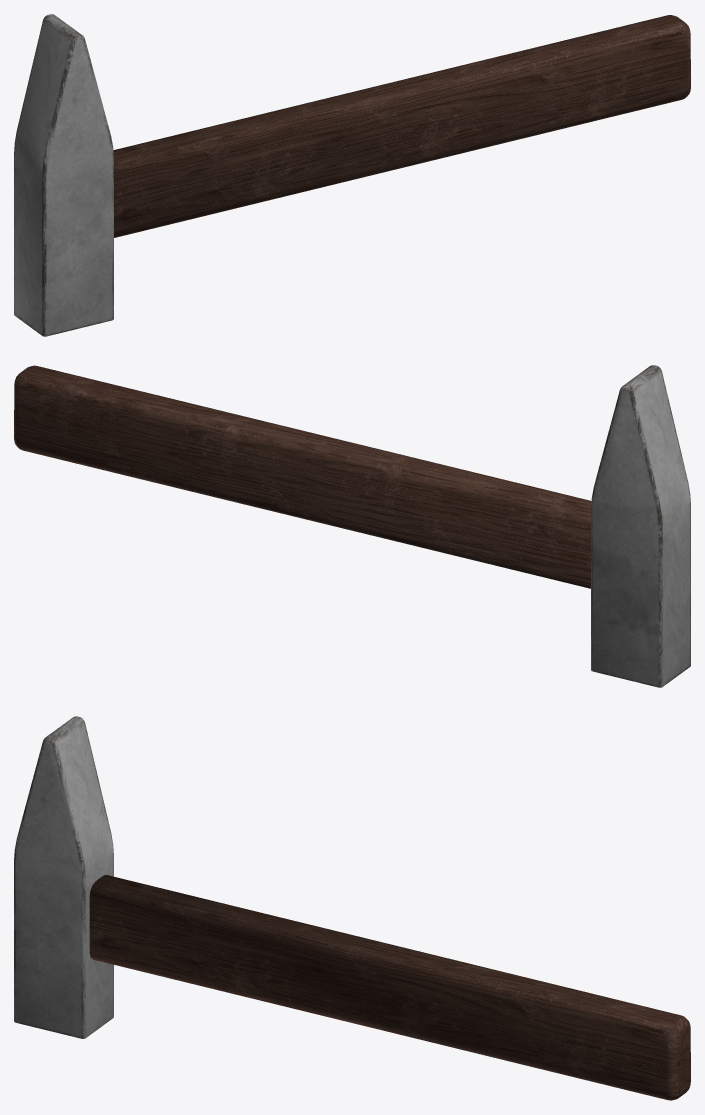
The model's file is hammer.glb.
3 views of the same model, one above another, from view 1: azimuth 30°, elevation 25°; view 2: azimuth 150°, elevation 25°; view 3: azimuth 330°, elevation 25° (orthographic).
Visible parts, largest first — view 1: Hammer; view 2: Hammer; view 3: Hammer.
Boxes of the visible parts, <box> form: Hammer: <box>14,14,690,336</box>; Hammer: <box>14,365,690,687</box>; Hammer: <box>14,716,690,1100</box>.
Bounding box in the file's own units: 2.25 × 0.9576 × 0.1829.
2 materials, 2 textured.
